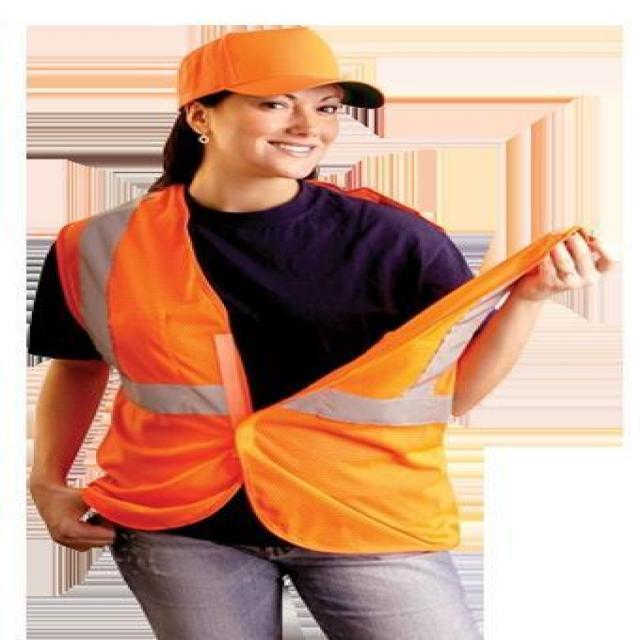no-helmet: (172, 31, 386, 132)
vest: (22, 178, 594, 560)
